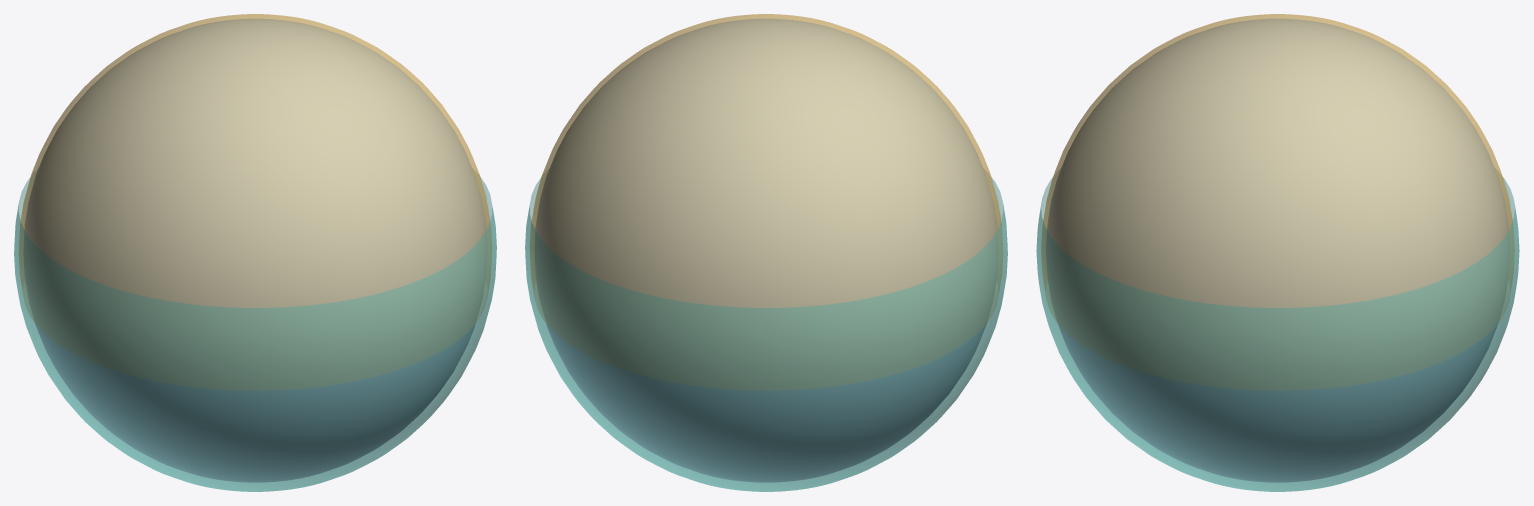
Rendered from sphere-charts.glb.
The picture shows the model from 3 angles, left to right: view 1: azimuth 30°, elevation 25°; view 2: azimuth 150°, elevation 25°; view 3: azimuth 270°, elevation 25°; orthographic projection.
Parts seen in each view (by area): view 1: Sphere, NorthChart, SouthChart; view 2: Sphere, NorthChart, SouthChart; view 3: Sphere, NorthChart, SouthChart.
Part boxes in pixels (x1,y1,x2,y2): Sphere: [23, 18, 487, 482]; NorthChart: [19, 14, 491, 390]; SouthChart: [14, 177, 496, 491]; Sphere: [534, 18, 998, 482]; NorthChart: [530, 14, 1002, 390]; SouthChart: [525, 177, 1007, 491]; Sphere: [1046, 18, 1509, 482]; NorthChart: [1041, 14, 1514, 390]; SouthChart: [1036, 177, 1519, 491].
Bounding box in the file's own units: 2.08 × 2.06 × 2.08.
